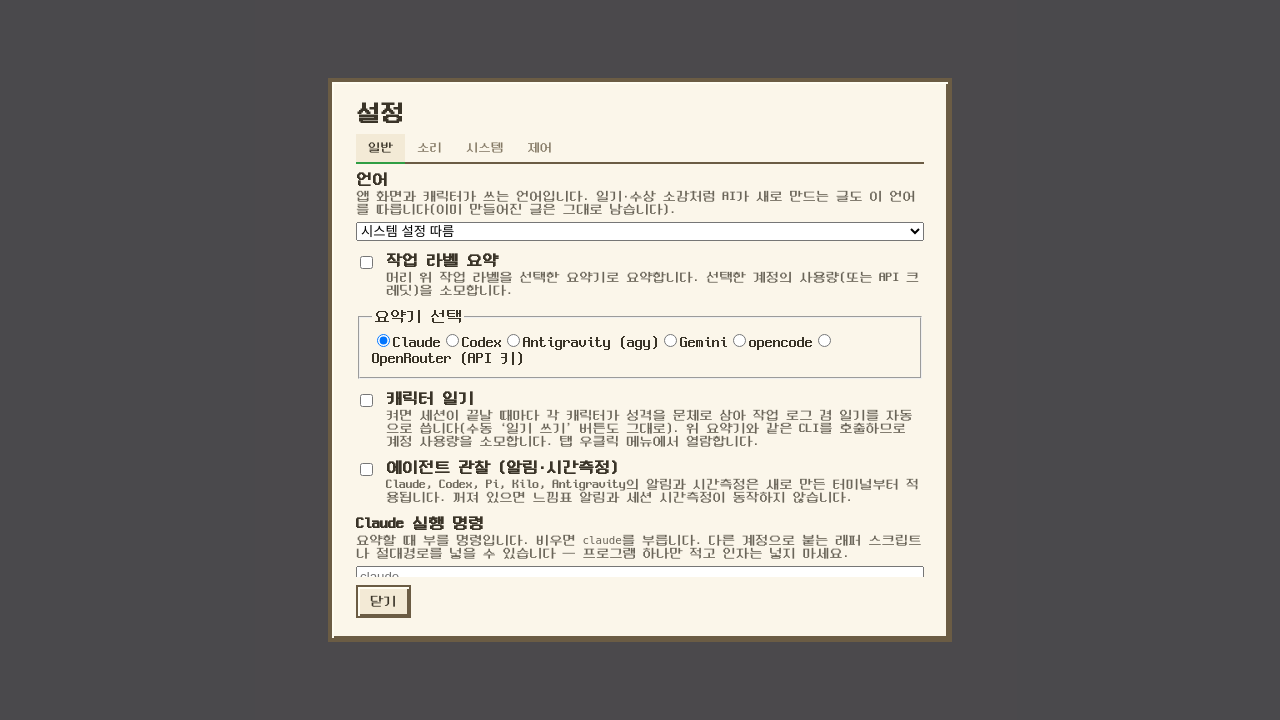
it: MascotLightsSection › 폴더 추가 버튼이 pickDirectory 결과를 목록에 append한다
Click the tab "시스템".
click(485, 149)  # box [454,134,515,164]
(page scrolled)
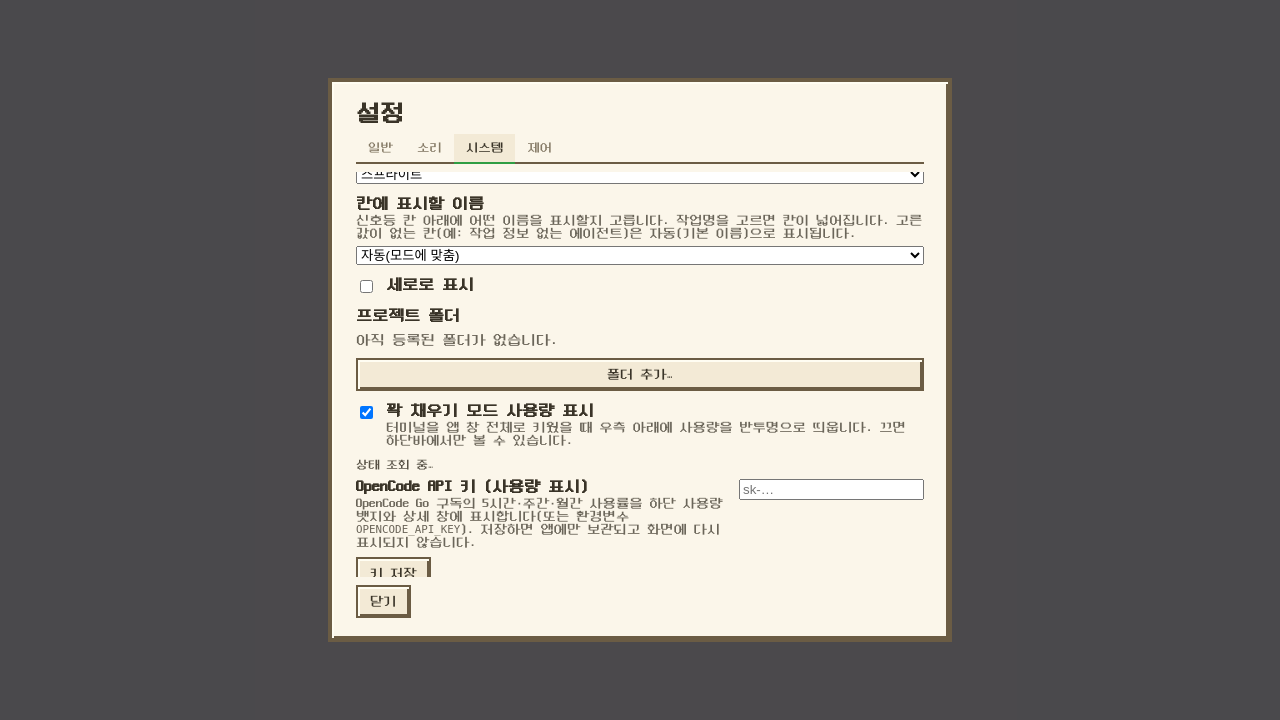
Click the button "폴더 추가…".
click(640, 374)  # box [356,358,924,391]
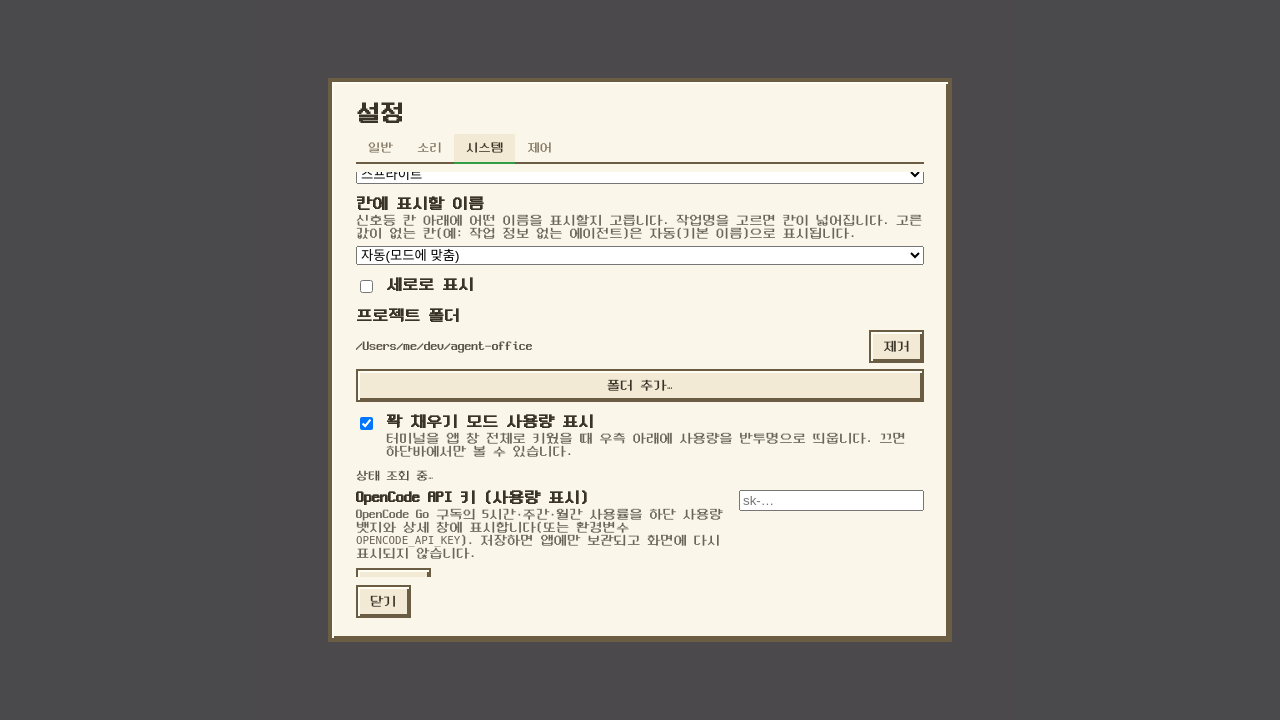
Check: the text "/Users/me/dev/agent-office" is shown, box [356,340,533,353]
